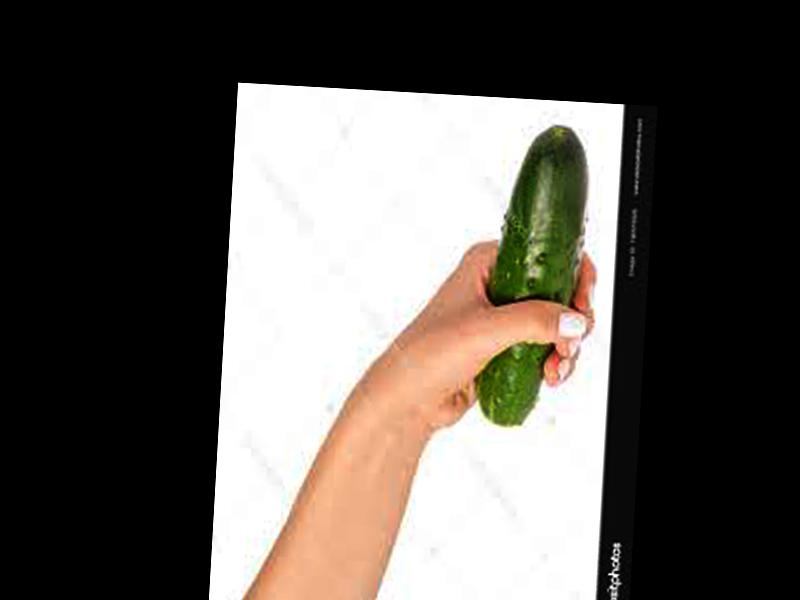Cucumber: (475, 118, 591, 428)
